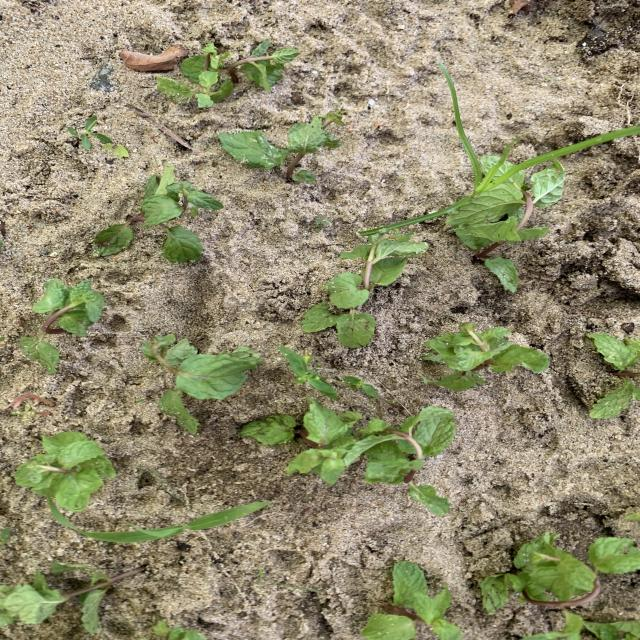crop: (240, 400, 455, 514), (480, 532, 639, 639), (446, 161, 565, 292), (301, 229, 427, 346), (92, 162, 223, 263), (142, 335, 262, 433), (6, 564, 143, 632), (14, 433, 115, 521), (423, 324, 547, 391), (21, 279, 104, 374), (219, 116, 342, 180), (362, 563, 461, 639), (156, 43, 234, 108), (588, 334, 639, 418), (228, 40, 299, 93), (152, 621, 206, 639)
weed: (360, 63, 640, 235), (61, 501, 270, 542), (279, 348, 336, 397), (69, 117, 111, 148), (344, 376, 377, 398), (316, 217, 331, 229), (1, 529, 10, 546), (625, 513, 639, 520)
